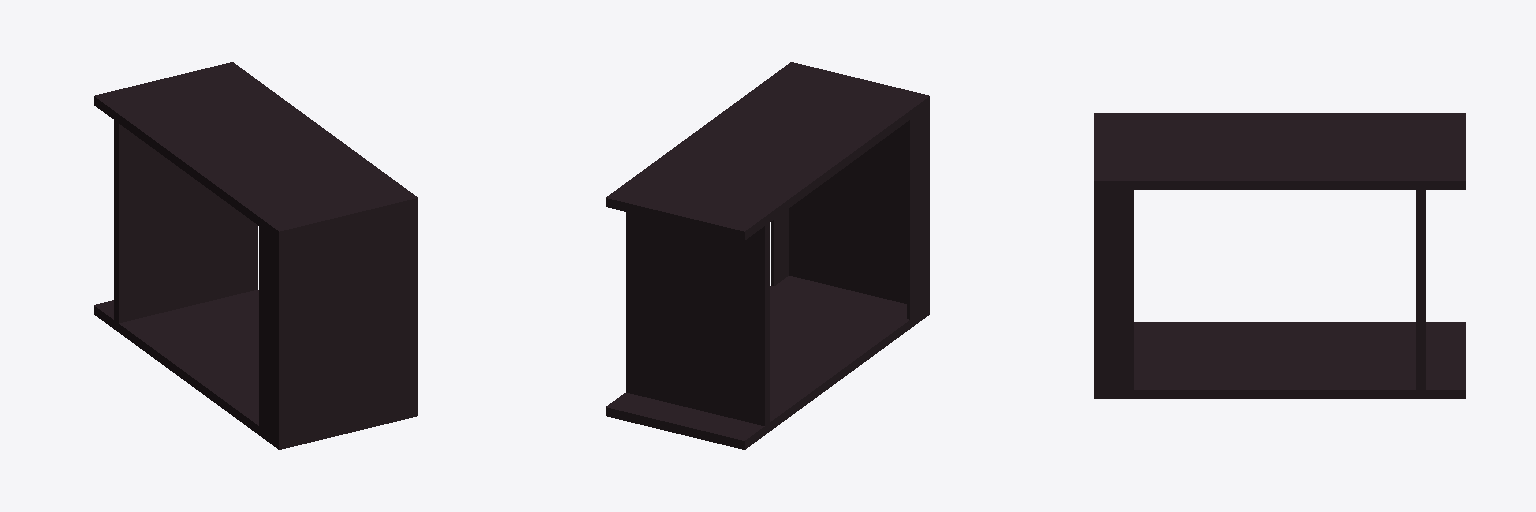
The model's file is cat32_nightStand.obj.
3 views of the same model, side by side, from view 1: azimuth 30°, elevation 25°; view 2: azimuth 150°, elevation 25°; view 3: azimuth 270°, elevation 25° (orthographic).
Visible parts, largest first — view 1: Color_L25; view 2: Color_L25; view 3: Color_L25.
Boxes of the visible parts, x1=… form: Color_L25: x1=94, y1=62, x2=417, y2=449; Color_L25: x1=606, y1=62, x2=929, y2=449; Color_L25: x1=1094, y1=113, x2=1465, y2=398.
Size of the model in its own units: 12 by 18 by 27.75.